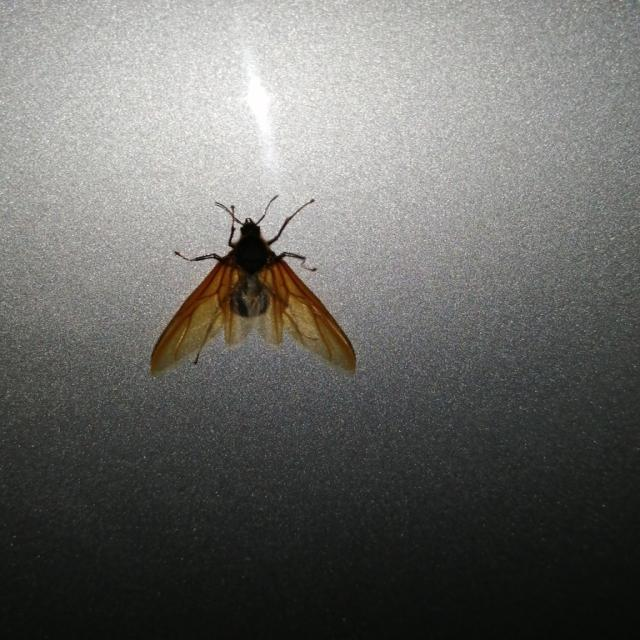Alive-Male-Alate: (150, 194, 357, 378)
